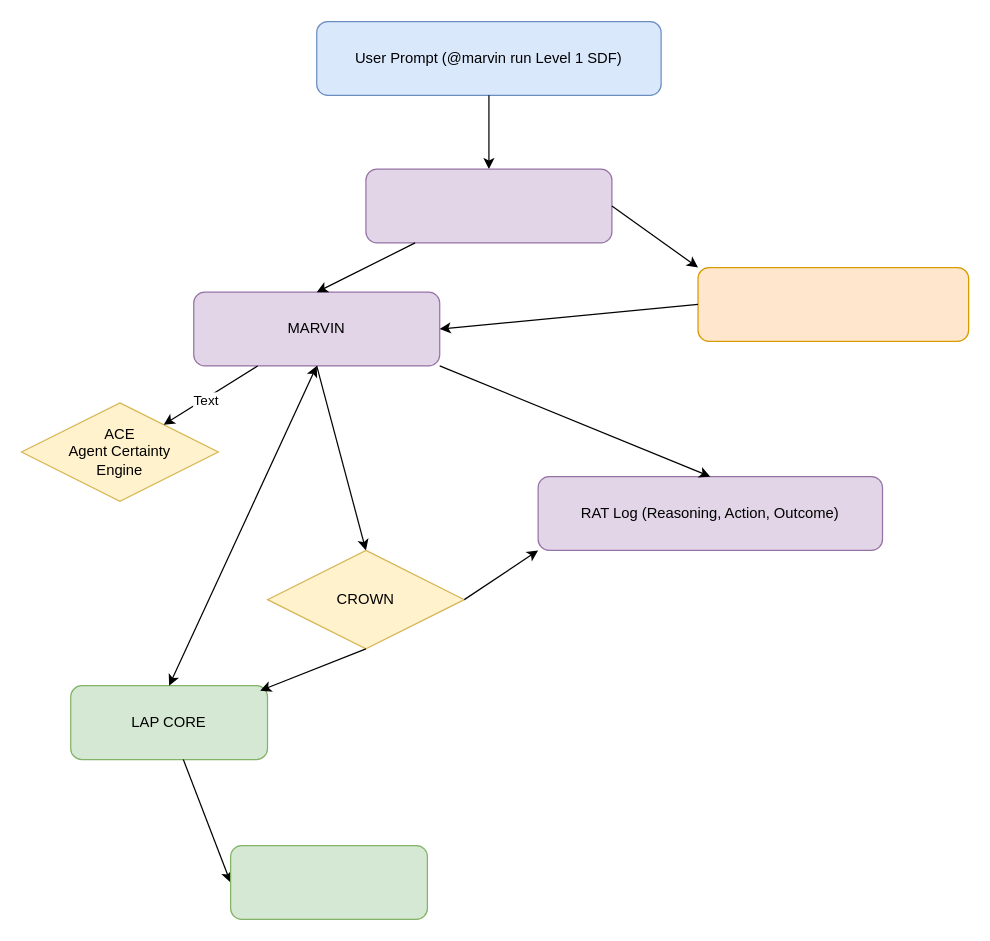
This 990x941 diagram has some shape labels left out. Each missing label, with the centre of its shape:
"COMMS BRIDGE" goes at [488,205].
"HITL QUEUE" goes at [833,303].
"LAPI" goes at [328,881].
